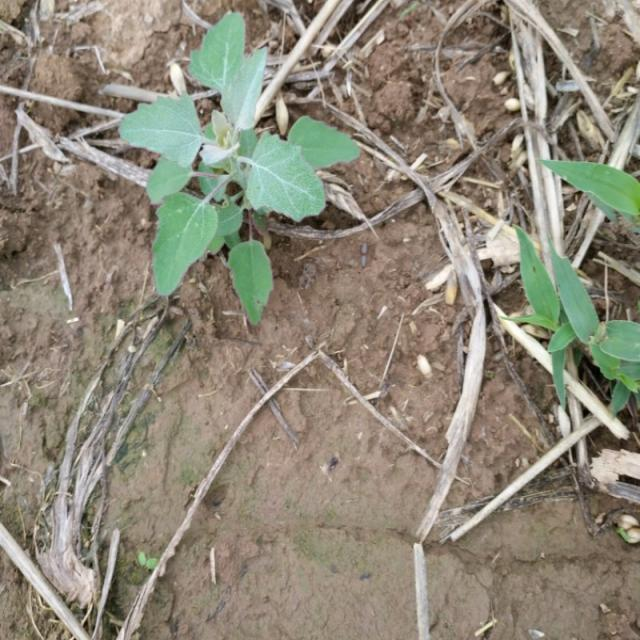goosefoots: (101, 21, 373, 294)
